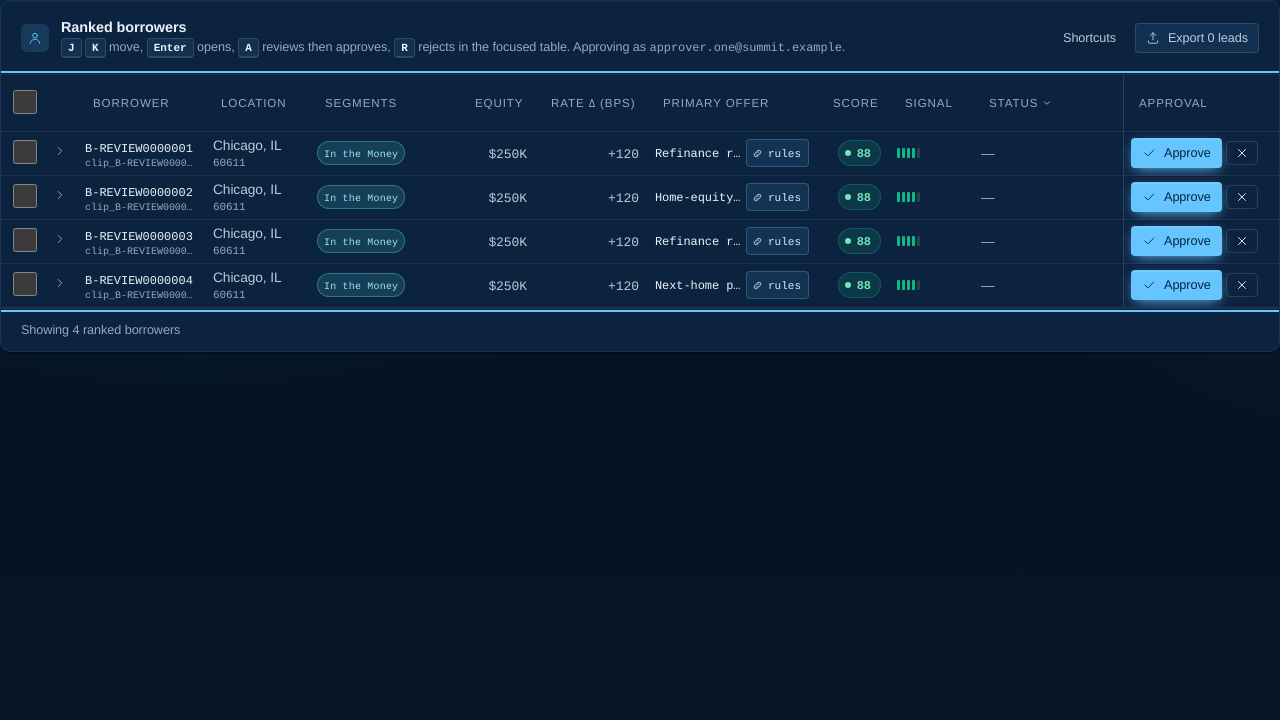
Test case: LeadTable approve review › Cancel abandons the review: no approval, the draft already written stays the only one
The image size is (1280, 720).
Press j in the element with class "tbl-wrap", box x1=1 y1=75 x2=1279 y2=308
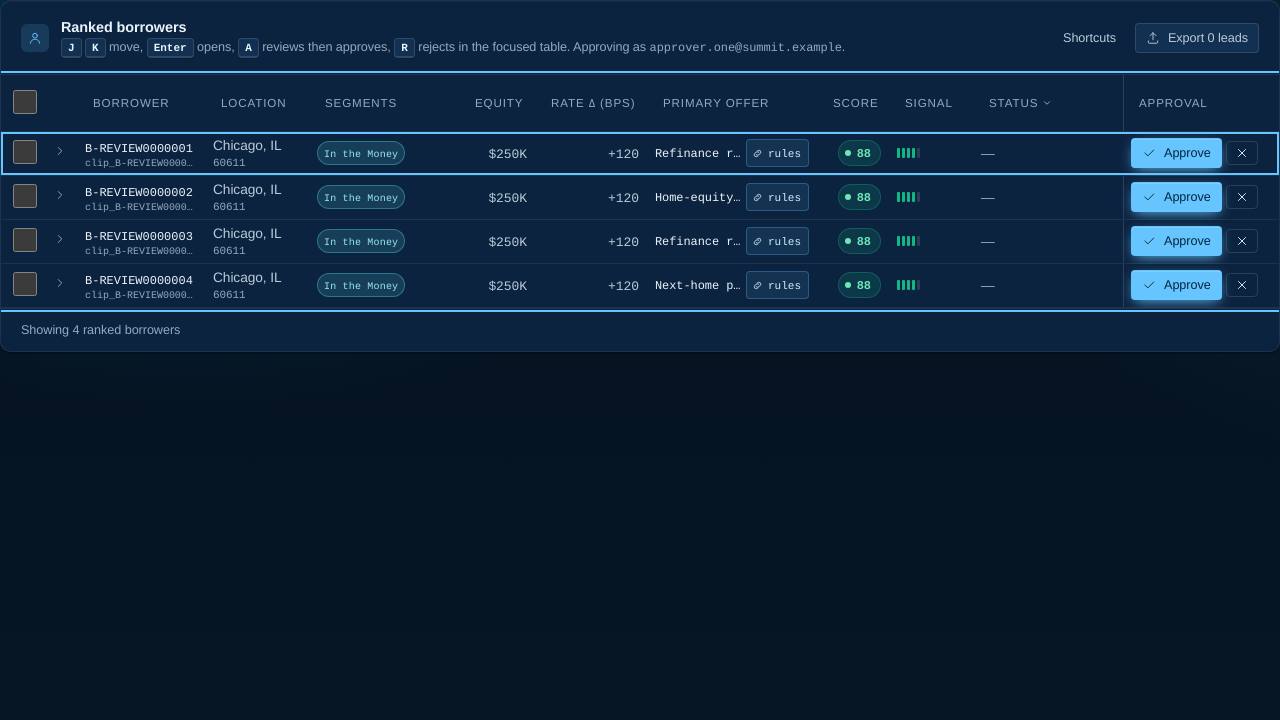
Press a in the element with class "tbl-wrap", box x1=1 y1=75 x2=1279 y2=308
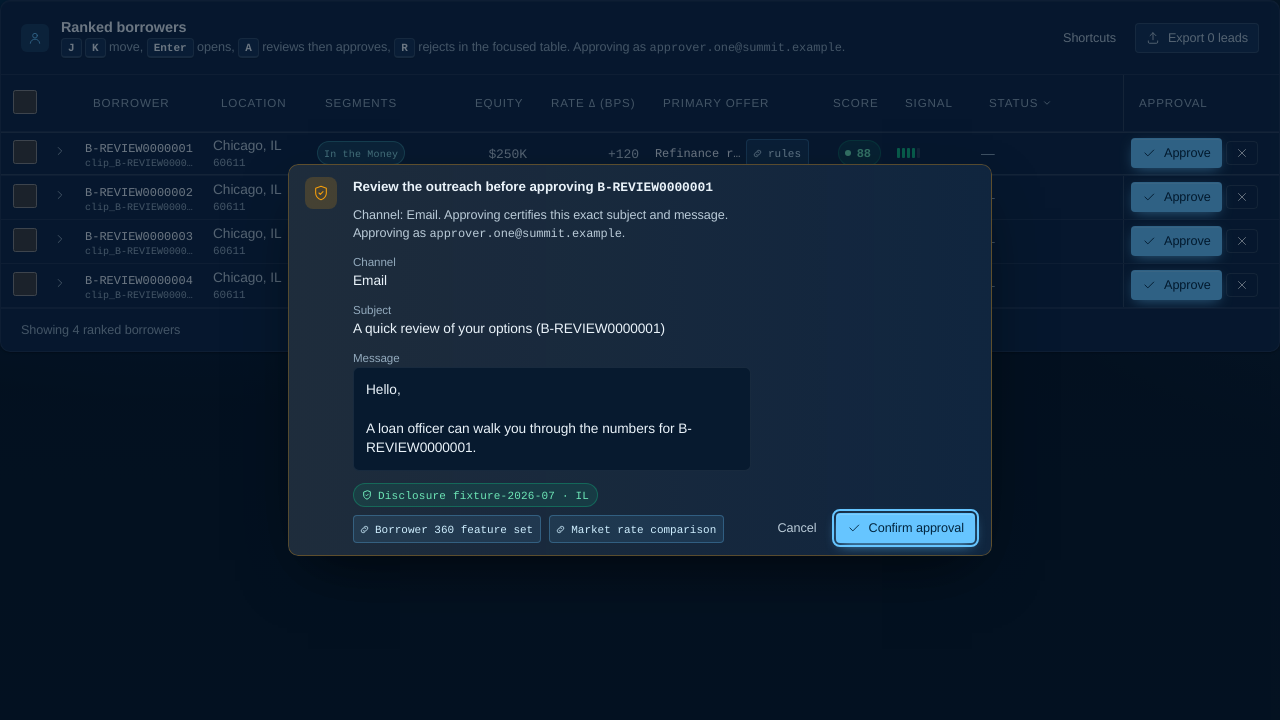
Click the button "Cancel" at [797, 528], box x1=766 y1=513 x2=828 y2=543
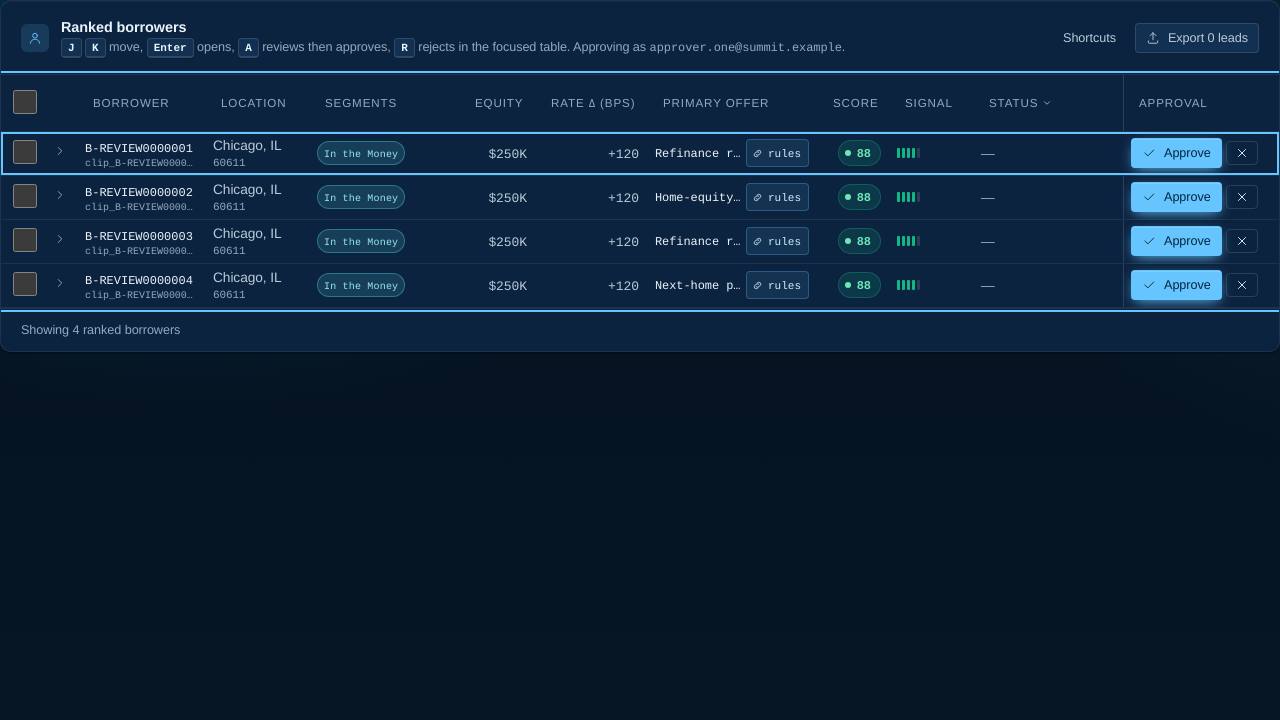
Check: the form with test id "lead-approve-review" is gone
